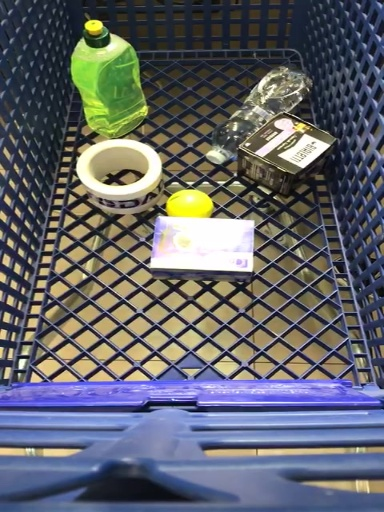Acqua: (203, 64, 313, 167)
Box: (149, 214, 257, 285)
Caffe: (238, 114, 339, 198)
Nastro: (68, 138, 164, 215)
Palla: (164, 188, 214, 218)
Sapone: (69, 19, 152, 139)
